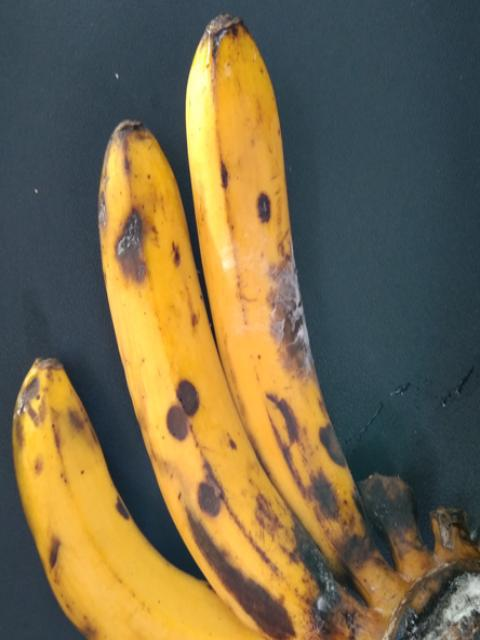overripe: (78, 111, 324, 617), (172, 9, 384, 574), (11, 353, 285, 639)
rotten: (230, 205, 347, 393)
